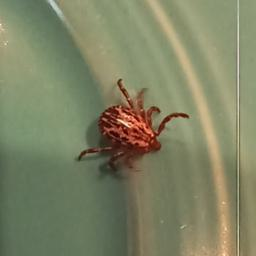Dermacentor variabilis: (75, 79, 192, 175)
